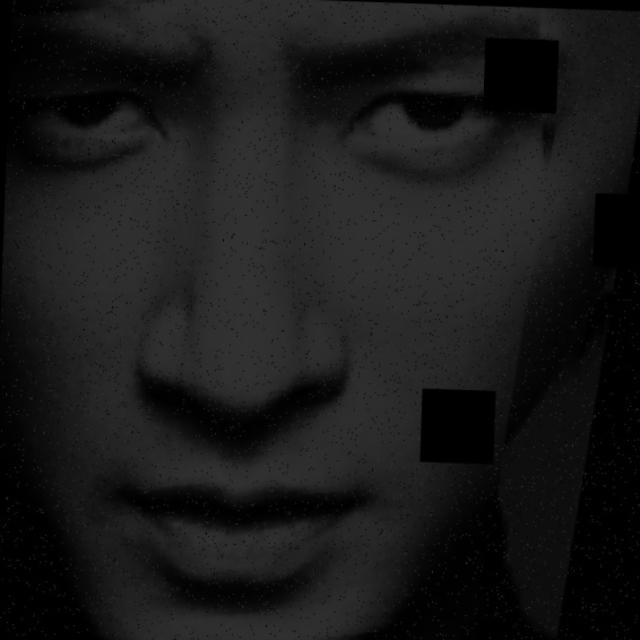Angry: (20, 16, 603, 633)
